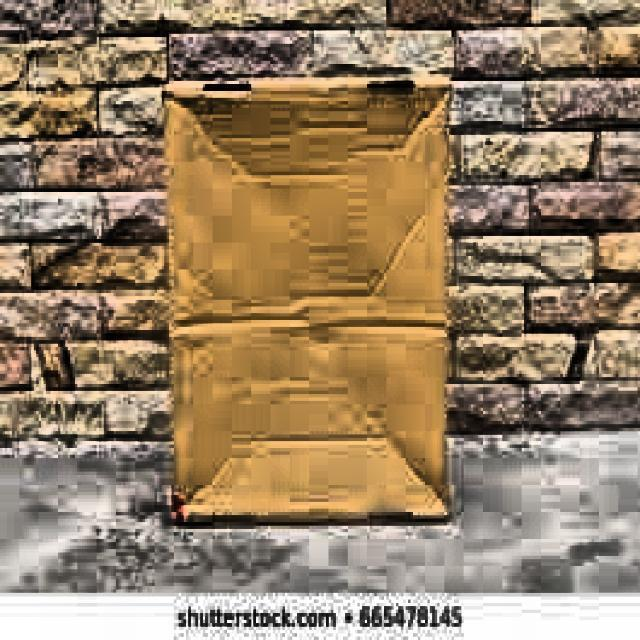cardboard: (160, 74, 452, 526)
